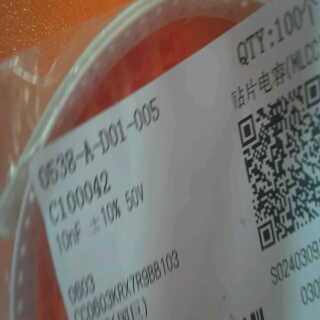10nF: (55, 220, 84, 254)
